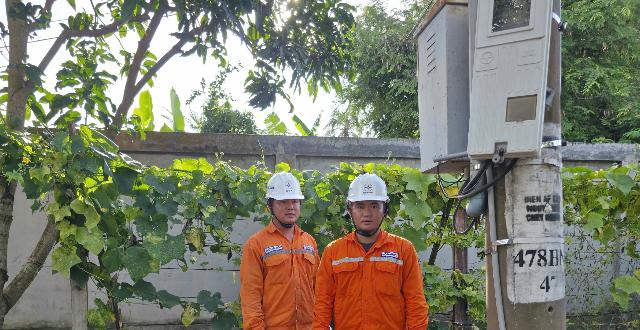helmet: (257, 169, 312, 211), (338, 170, 395, 206)
